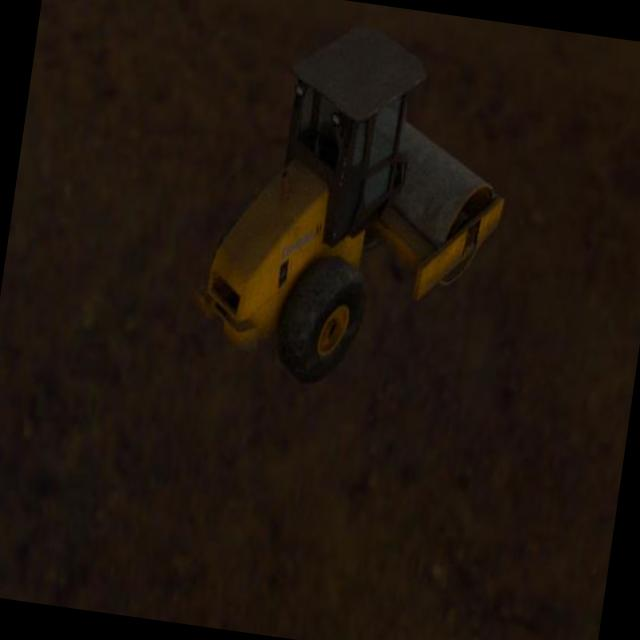Roller: (184, 6, 526, 406)
